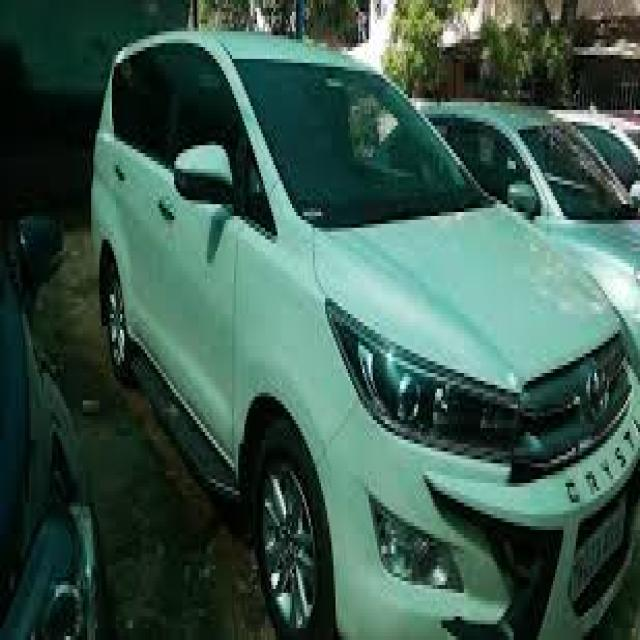cars: (81, 26, 640, 632), (0, 227, 110, 640)
